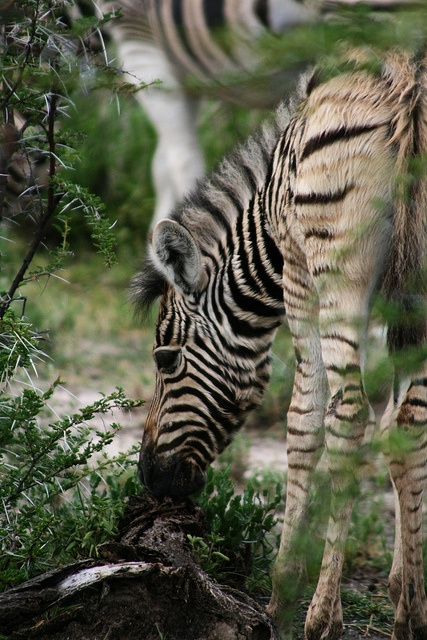zebra: (130, 39, 427, 640)
